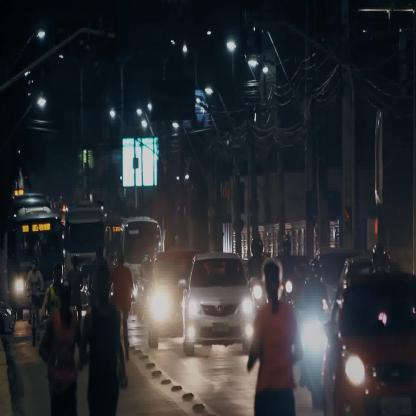bus: (9, 212, 59, 319)
car: (180, 253, 255, 356), (150, 253, 193, 351)
motorcycle: (27, 259, 42, 347)
